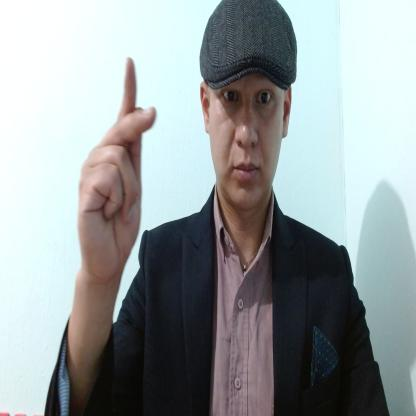P: (76, 50, 161, 279)
